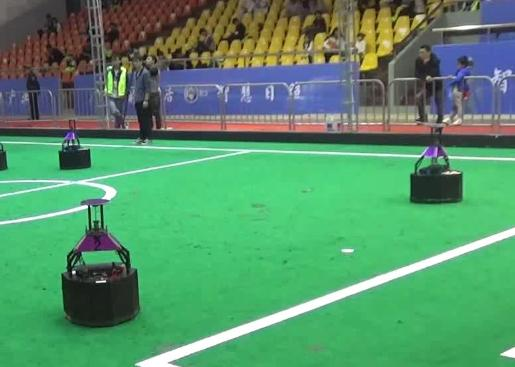robot: (54, 198, 145, 328), (408, 119, 468, 207), (56, 116, 93, 170)
